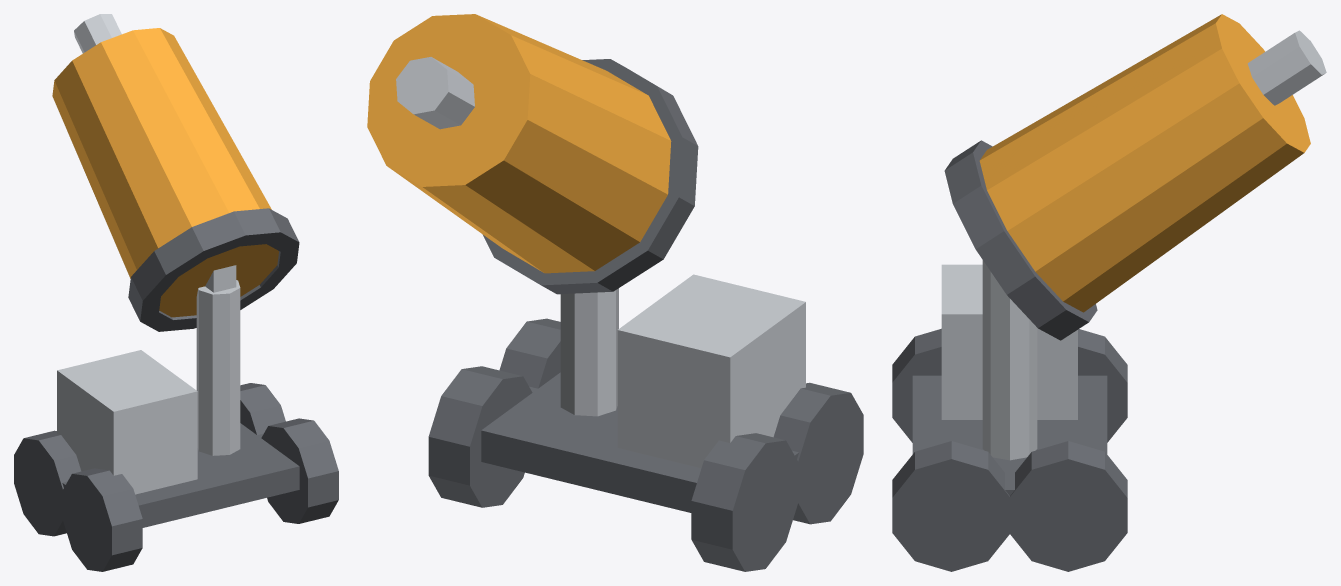
The model's file is snowgun.glb.
3 views of the same model, side by side, from view 1: azimuth 30°, elevation 25°; view 2: azimuth 150°, elevation 25°; view 3: azimuth 270°, elevation 25° (orthographic). The views are drawn at different scales.
Visible parts, largest first — view 1: snowmaking-gun; view 2: snowmaking-gun; view 3: snowmaking-gun.
Boxes of the visible parts, <box> form: snowmaking-gun: <box>14,14,338,571</box>; snowmaking-gun: <box>367,14,863,571</box>; snowmaking-gun: <box>892,14,1326,571</box>.
Bounding box in the file's own units: 1.66 × 2.87 × 2.23.
